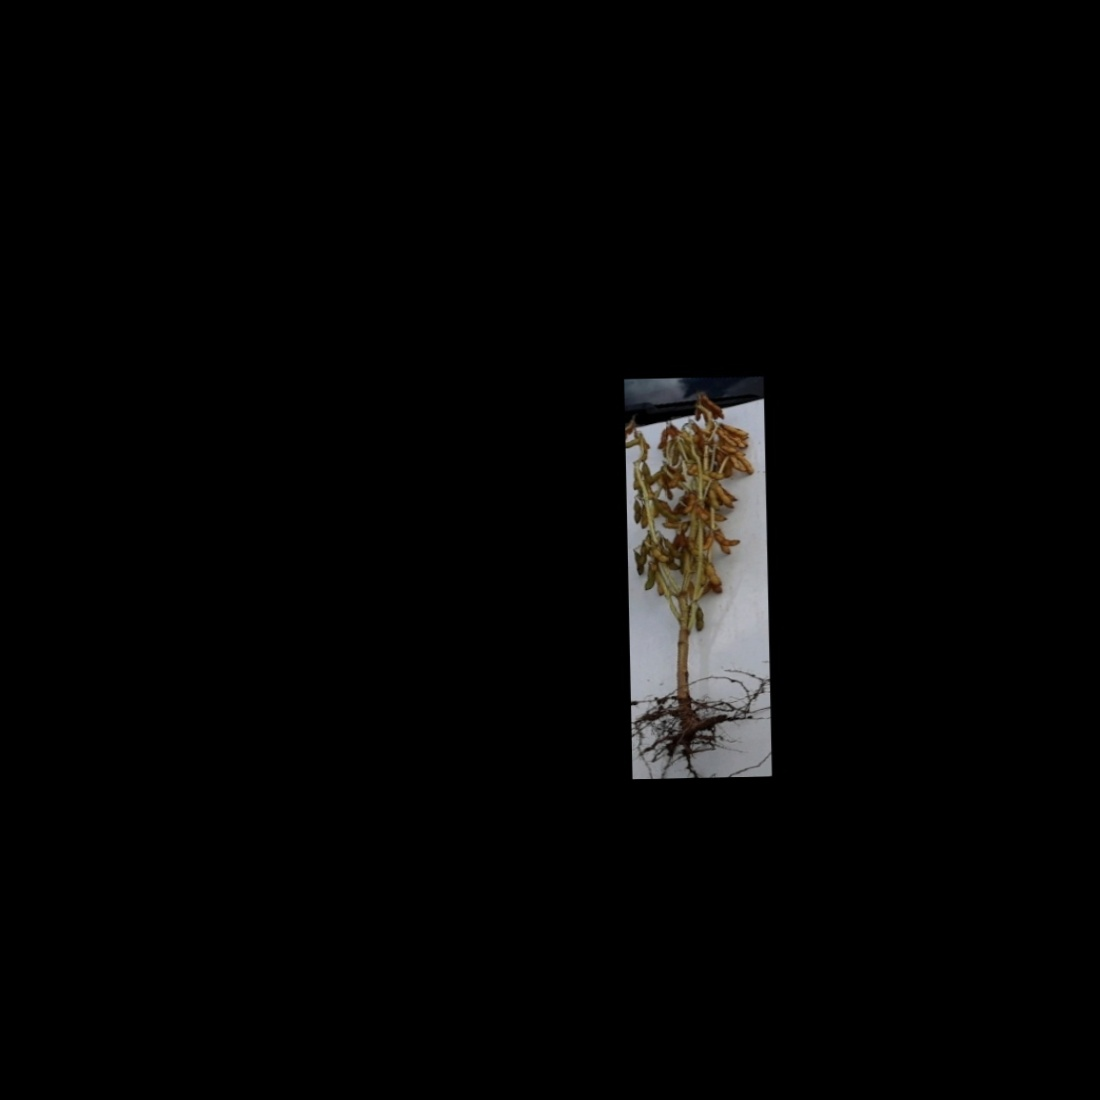pod: (649, 495, 684, 527), (714, 480, 737, 510), (700, 559, 721, 588), (711, 533, 744, 547), (719, 422, 751, 435), (739, 452, 755, 476), (694, 606, 706, 633)
soy: (626, 389, 767, 766)
